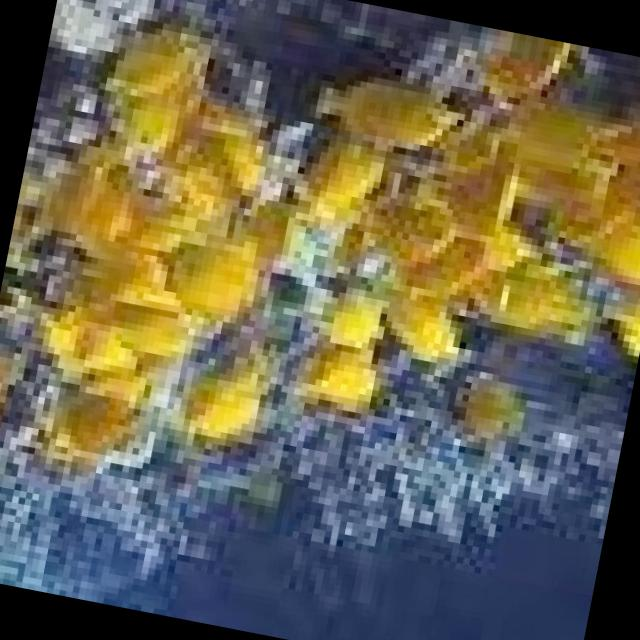YellowTang: (84, 10, 232, 176), (164, 343, 297, 479), (298, 61, 462, 170), (424, 142, 558, 272), (28, 308, 175, 406), (41, 376, 166, 481), (490, 93, 620, 192), (150, 231, 253, 350), (460, 24, 578, 114), (353, 289, 472, 373), (456, 266, 570, 346), (150, 152, 254, 226), (298, 335, 378, 427), (213, 122, 293, 205), (454, 368, 528, 442), (582, 202, 640, 290), (600, 292, 640, 362)
